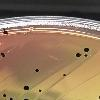black: (2, 29, 9, 37), (74, 52, 82, 59), (23, 84, 30, 92), (83, 47, 90, 53), (6, 96, 14, 100), (0, 51, 5, 56), (83, 54, 88, 59), (2, 93, 7, 98), (34, 68, 40, 72), (22, 97, 30, 100), (2, 54, 6, 59), (37, 89, 42, 93), (63, 73, 67, 77), (98, 94, 100, 100)
